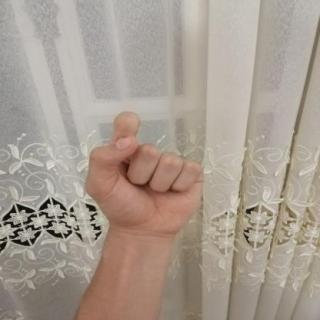FAA: (74, 105, 214, 244)
